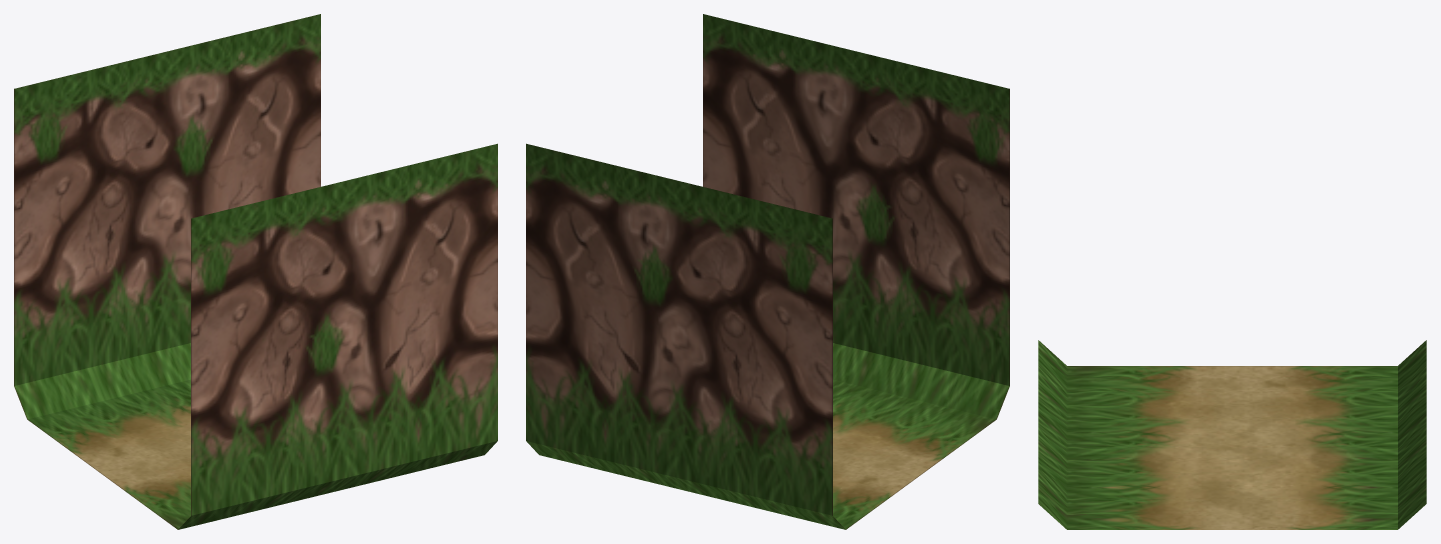
The model's file is bloc_intermediaire_miroir.FBX.
3 views of the same model, side by side, from view 1: azimuth 30°, elevation 25°; view 2: azimuth 150°, elevation 25°; view 3: azimuth 270°, elevation 25° (orthographic). The views are drawn at different scales.
Visible parts, largest first — view 1: Object005; view 2: Object005; view 3: Object005.
Part boxes in pixels (left/top/right/bottom): Object005: left=14, top=14, right=497, bottom=529; Object005: left=526, top=14, right=1009, bottom=529; Object005: left=1038, top=340, right=1426, bottom=529.
Size of the model in its own units: 100 by 100 by 100.
